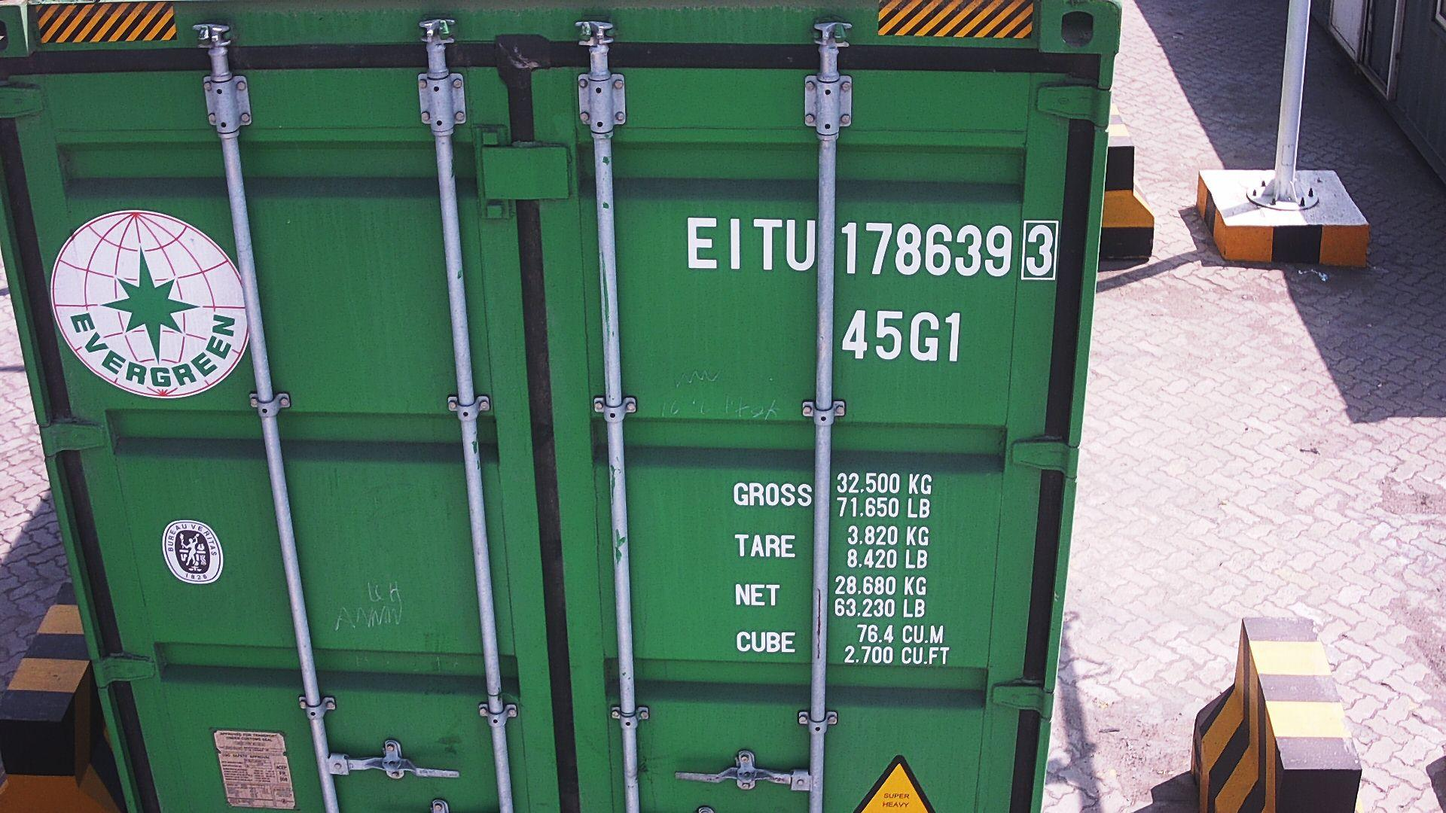container-numbers: (682, 212, 1064, 285), (836, 305, 969, 367)
